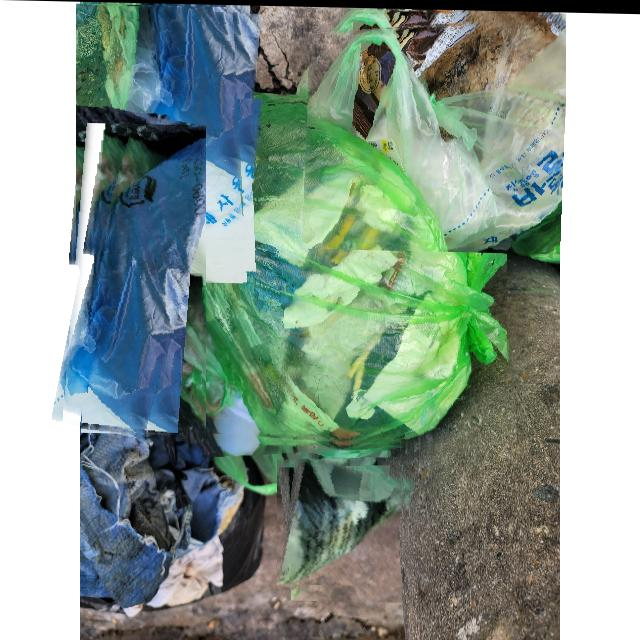general_trashbag: (192, 97, 507, 443), (305, 17, 566, 249), (76, 3, 242, 281), (66, 133, 206, 435), (278, 456, 405, 583)
